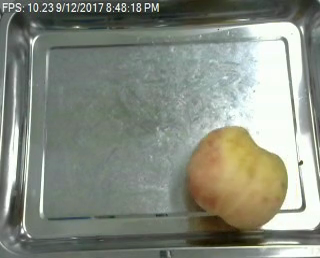Peach: (187, 126, 286, 231)
